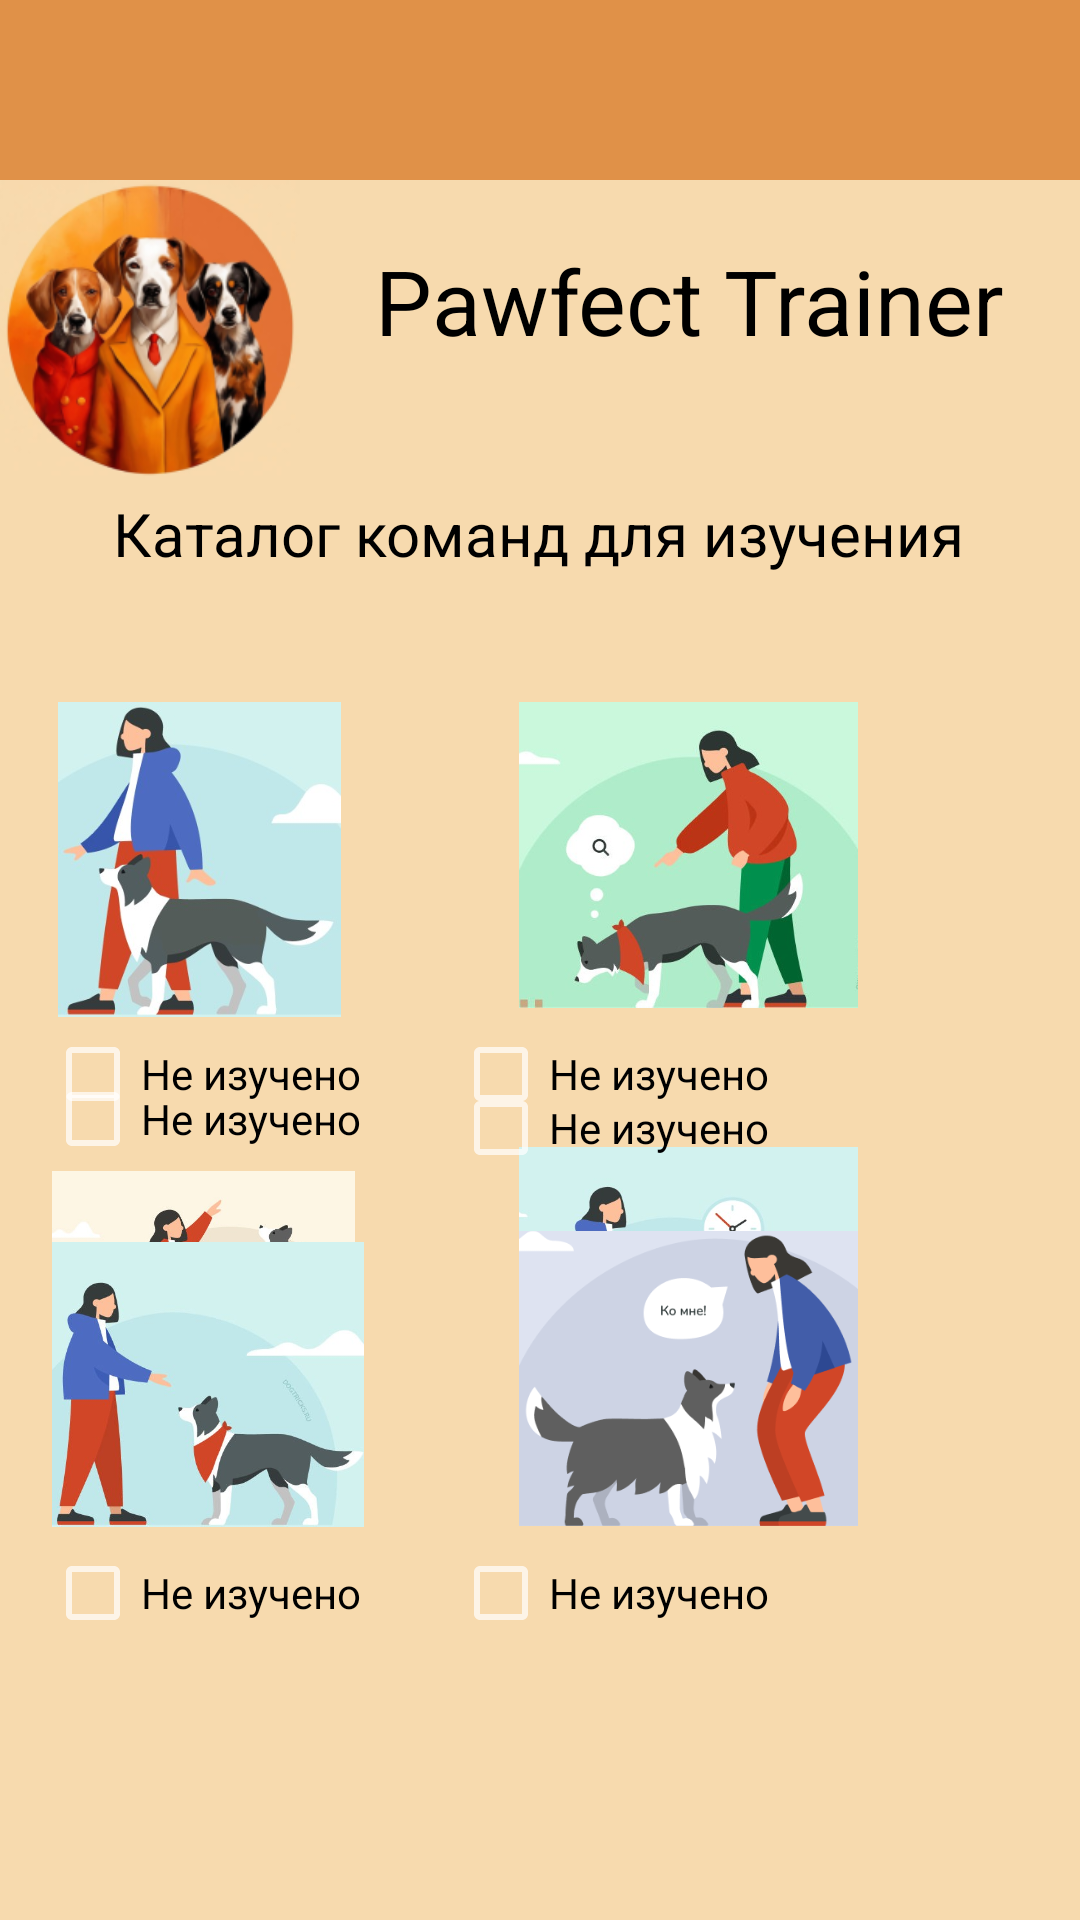

Icons on this 1080 x 1920 Android screen, each with its box as [x1, y1, x2, y2]:
find: [519, 702, 858, 1008]
